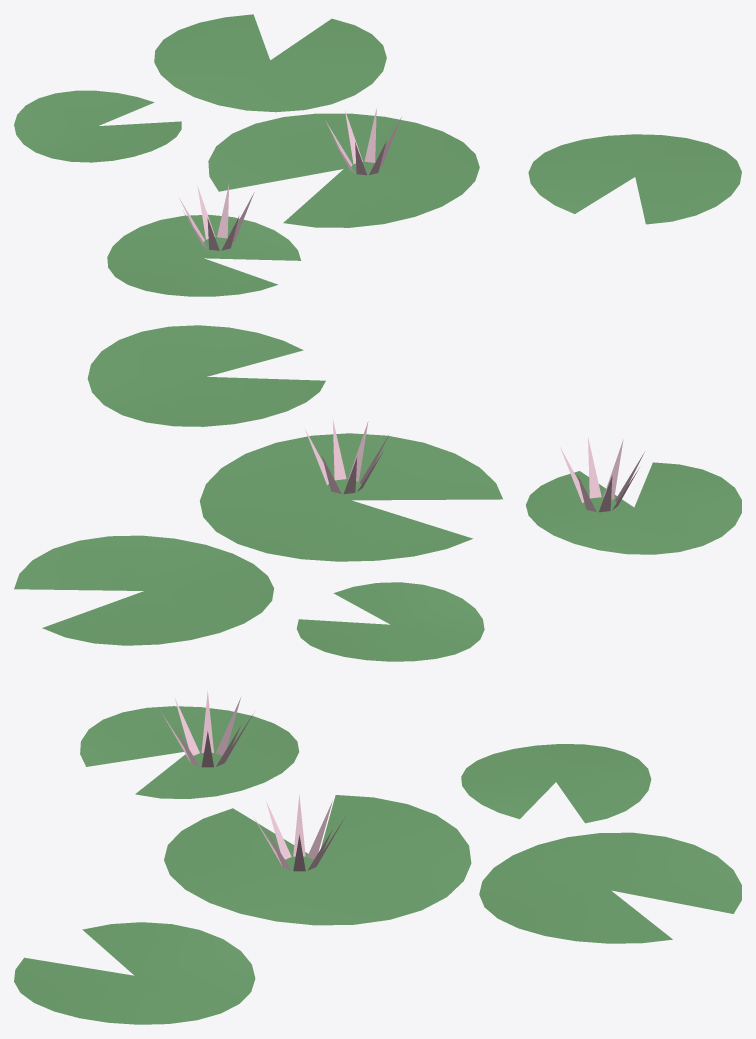
The model's file is lily_pad_cluster.glb.
The picture shows the model from 3 angles, top to bottom: view 1: azimuth 30°, elevation 25°; view 2: azimuth 150°, elevation 25°; view 3: azimuth 270°, elevation 25°; orthographic projection. The views are drawn at different scales.
Parts seen in each view (by area): view 1: lily_pad_cluster; view 2: lily_pad_cluster; view 3: lily_pad_cluster.
Part boxes in pixels (x1,y1,x2,y2): lily_pad_cluster: (14,14,741,296); lily_pad_cluster: (14,325,741,661); lily_pad_cluster: (14,691,741,1024).
Bounding box in the file's own units: 2.08 × 0.169 × 1.99.
